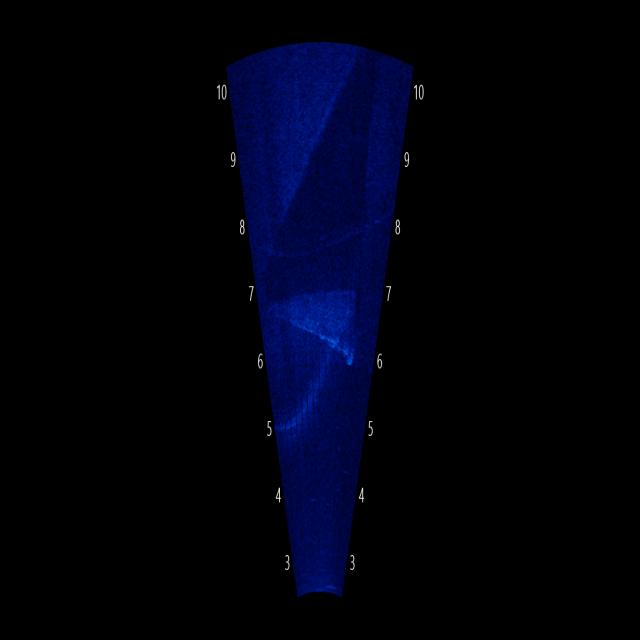triangle: (269, 280, 366, 366)
